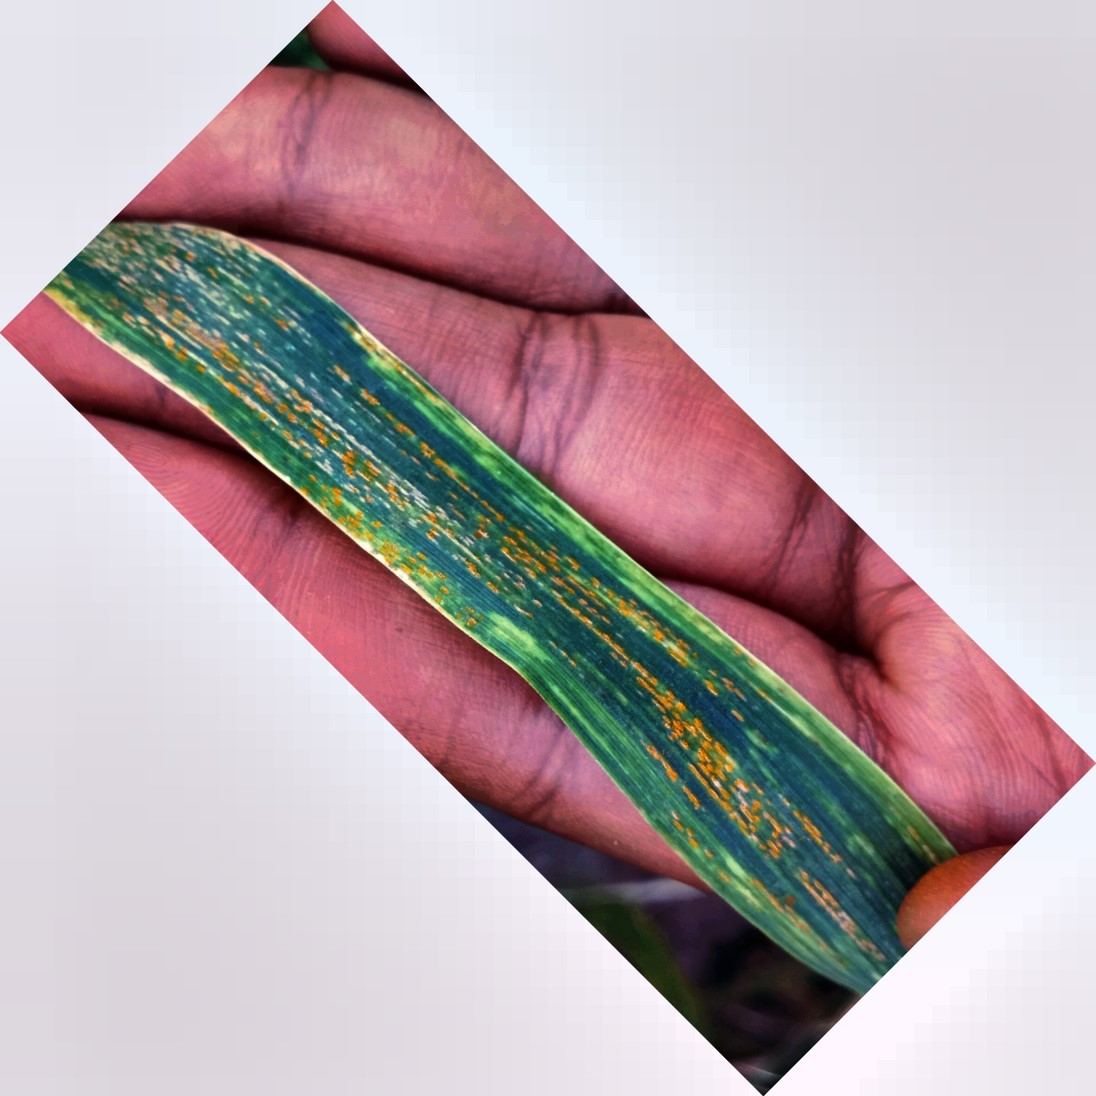Leaf Rust: (197, 300, 812, 868)
